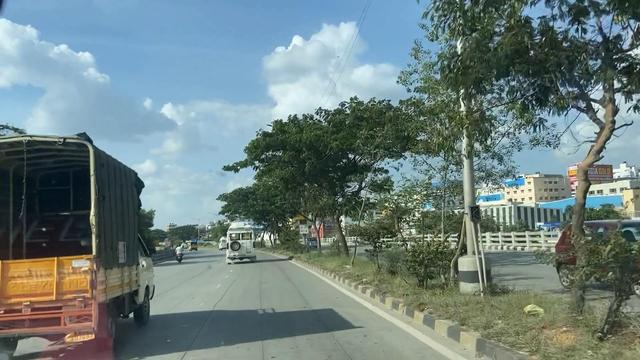HMV: (0, 139, 151, 360), (225, 220, 254, 260)
